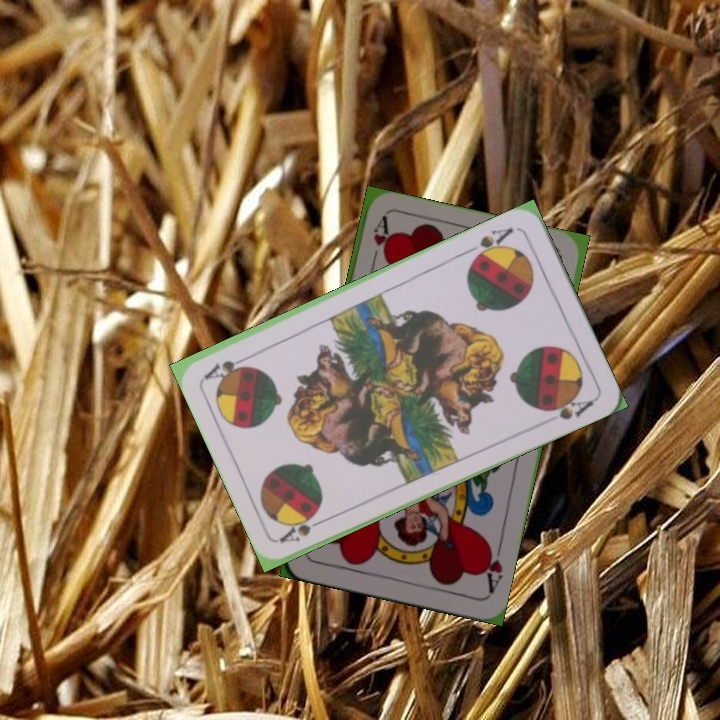HA: (478, 538, 505, 596), (366, 214, 392, 273)
SA: (463, 223, 516, 264), (276, 510, 332, 546)
